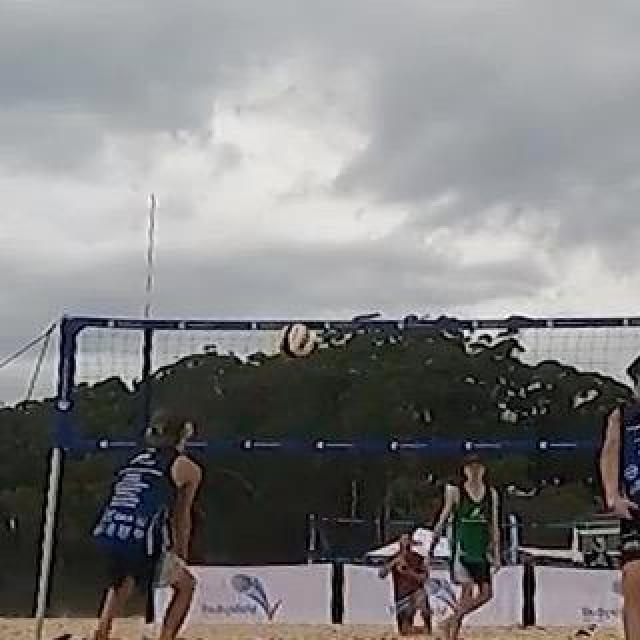volleyball: (279, 325, 313, 357)
